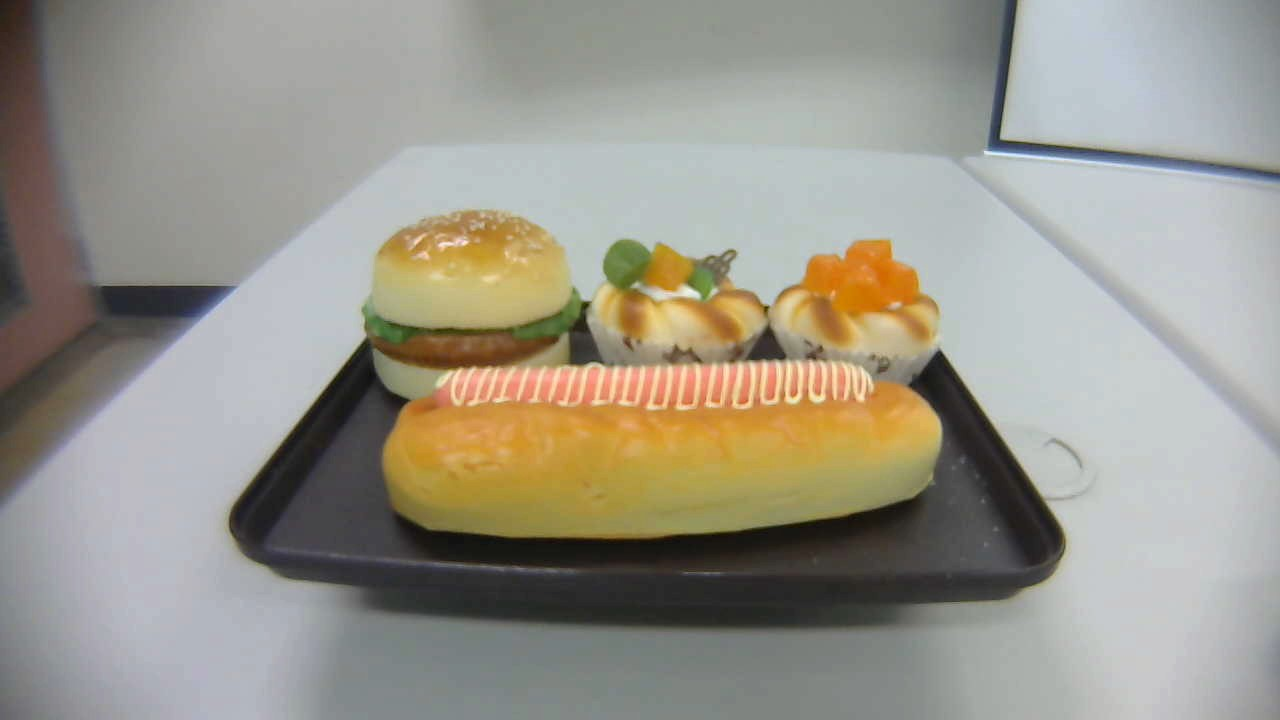fruit tart: (585, 239, 768, 377)
hamburger: (363, 209, 582, 404)
hot dog: (382, 358, 942, 534)
mango tart: (766, 240, 942, 390)
